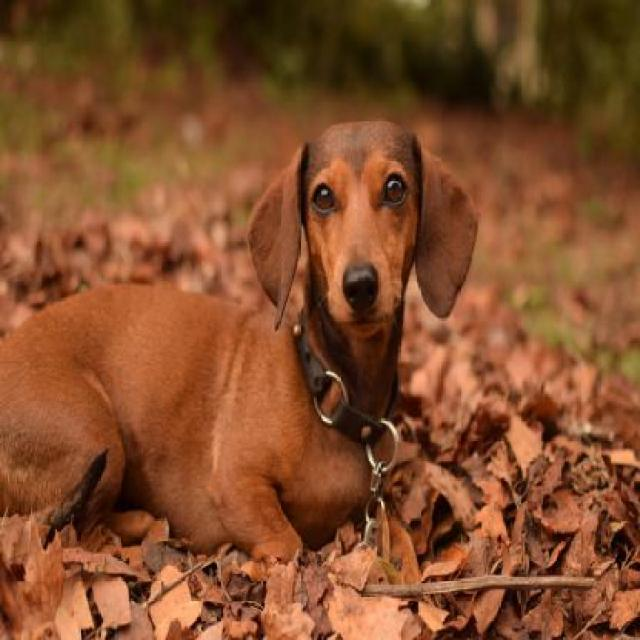Dog: (4, 111, 478, 571)
